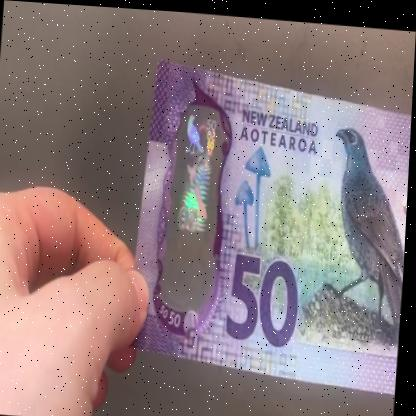50B: (173, 107, 223, 298)
